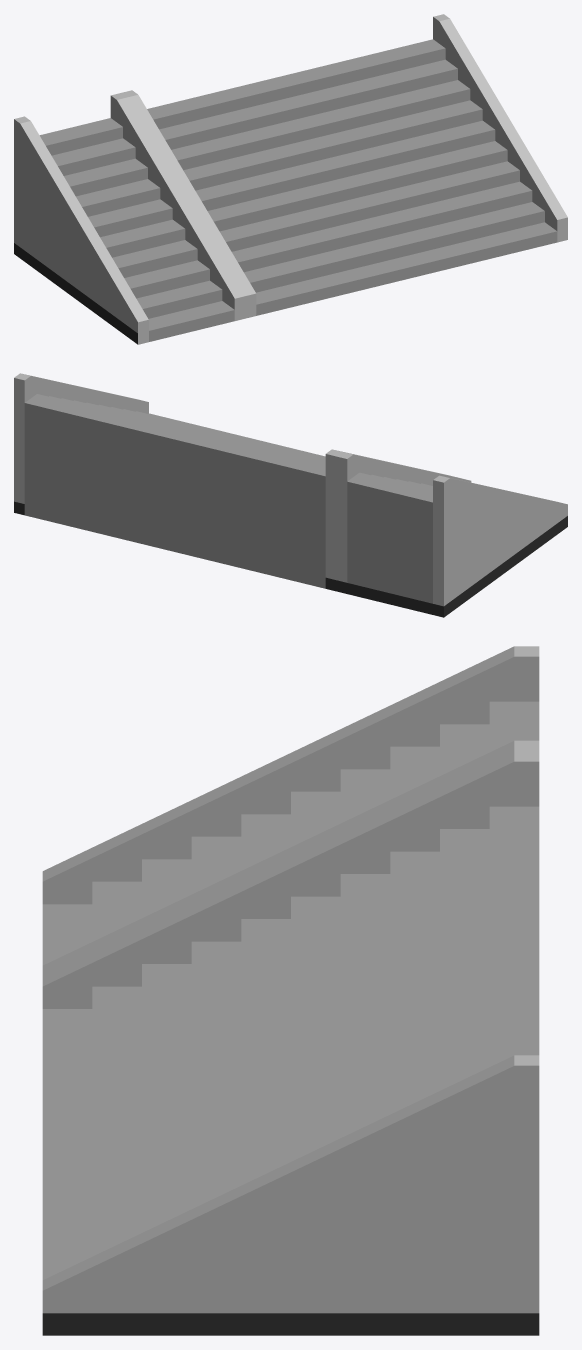
The model's file is Stairs.fbx.
3 renders of one model, top to bottom at view 1: azimuth 30°, elevation 25°; view 2: azimuth 150°, elevation 25°; view 3: azimuth 270°, elevation 25°, orthographic. The views are drawn at different scales.
Parts seen in each view (by area): view 1: Stairs_S, Stairs_R, Stairs_M, Stairs_L; view 2: Stairs_S, Stairs_R, Stairs_M, Stairs_L; view 3: Stairs_R, Stairs_L, Stairs_M, Stairs_S.
Part boxes in pixels (x1,y1,x2,y2): Stairs_S: (14,93,245,344); Stairs_R: (337,14,567,265); Stairs_M: (229,63,460,292); Stairs_L: (121,89,352,318); Stairs_S: (336,452,567,617); Stairs_R: (14,373,244,538); Stairs_M: (121,417,325,564); Stairs_L: (229,443,456,591); Stairs_R: (42,1006,539,1335); Stairs_L: (42,751,539,1103); Stairs_M: (42,901,539,1208); Stairs_S: (42,646,539,975).
Size of the model in its own units: 400 by 120 by 200.
